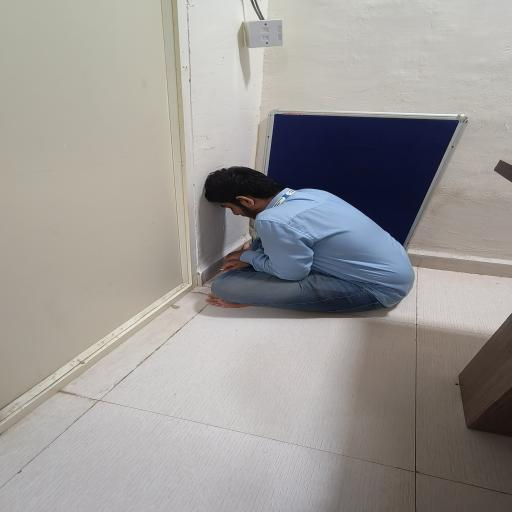survivor: (204, 166, 416, 314)
